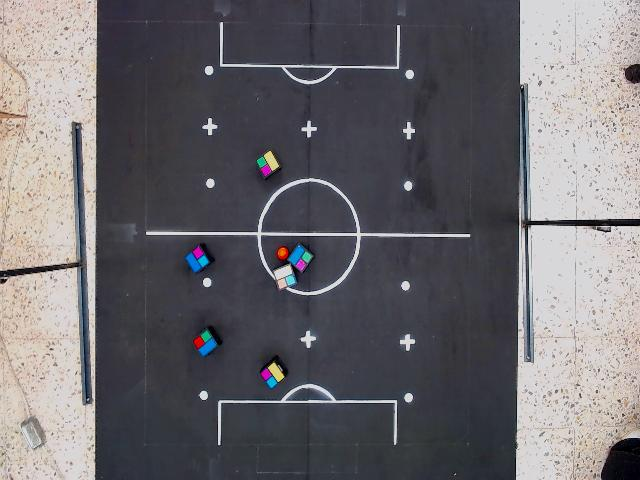robot: (254, 147, 282, 182), (286, 242, 315, 275), (191, 326, 219, 359), (259, 360, 287, 390), (184, 244, 211, 275), (272, 262, 298, 292)
